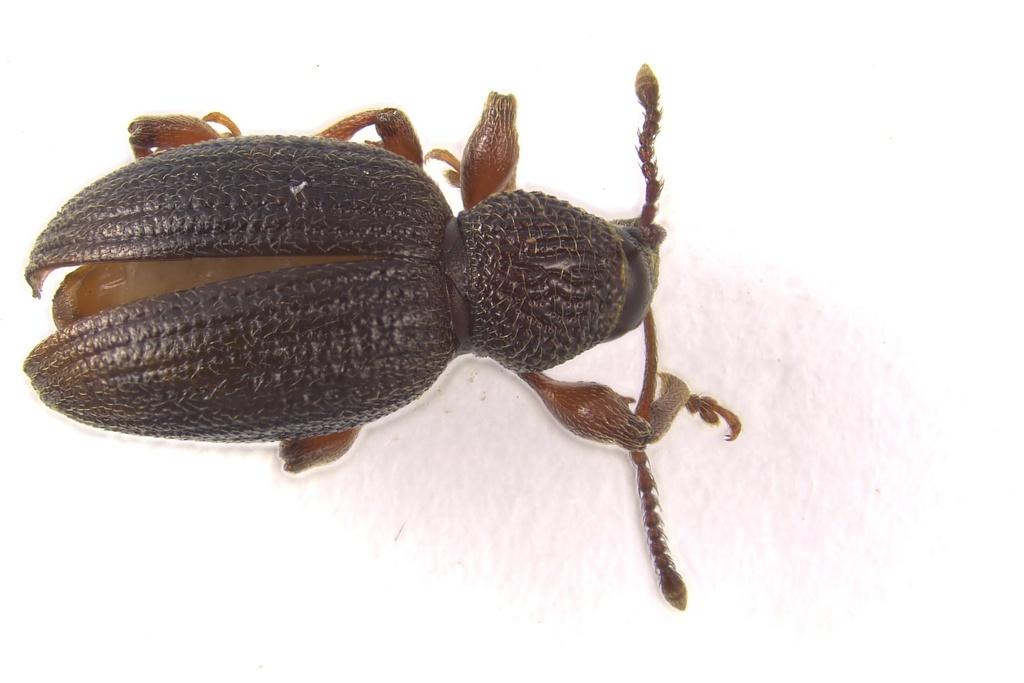weevils: (0, 0, 836, 677)
